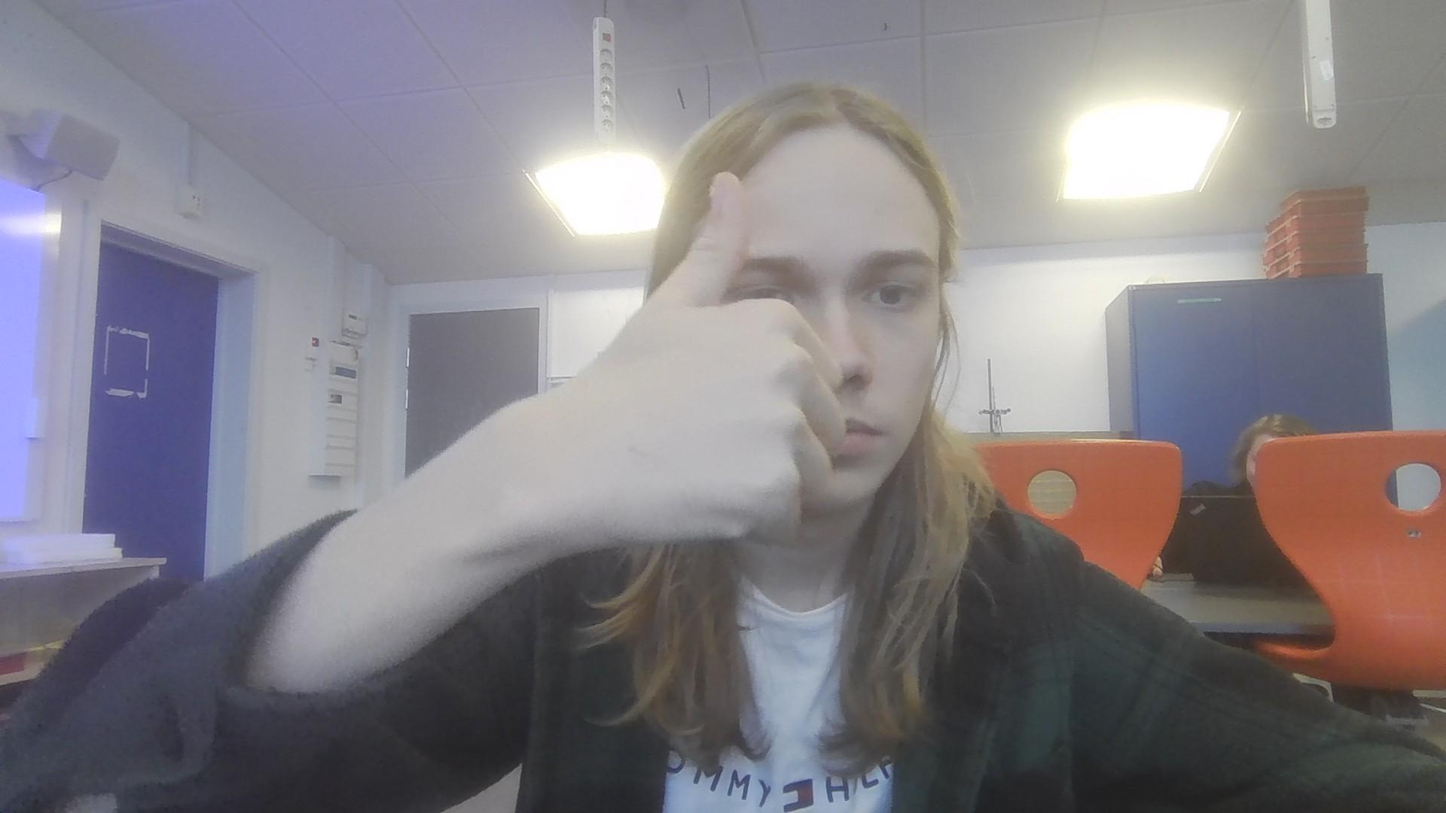thumbs up: (527, 162, 832, 581)
